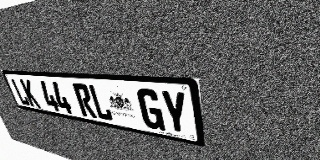4: (49, 81, 73, 114), (38, 80, 61, 112)
G: (136, 88, 165, 131)
K: (19, 79, 41, 108)
L: (87, 84, 114, 122), (10, 78, 31, 106)
R: (72, 83, 97, 118)
Y: (159, 90, 190, 136)
